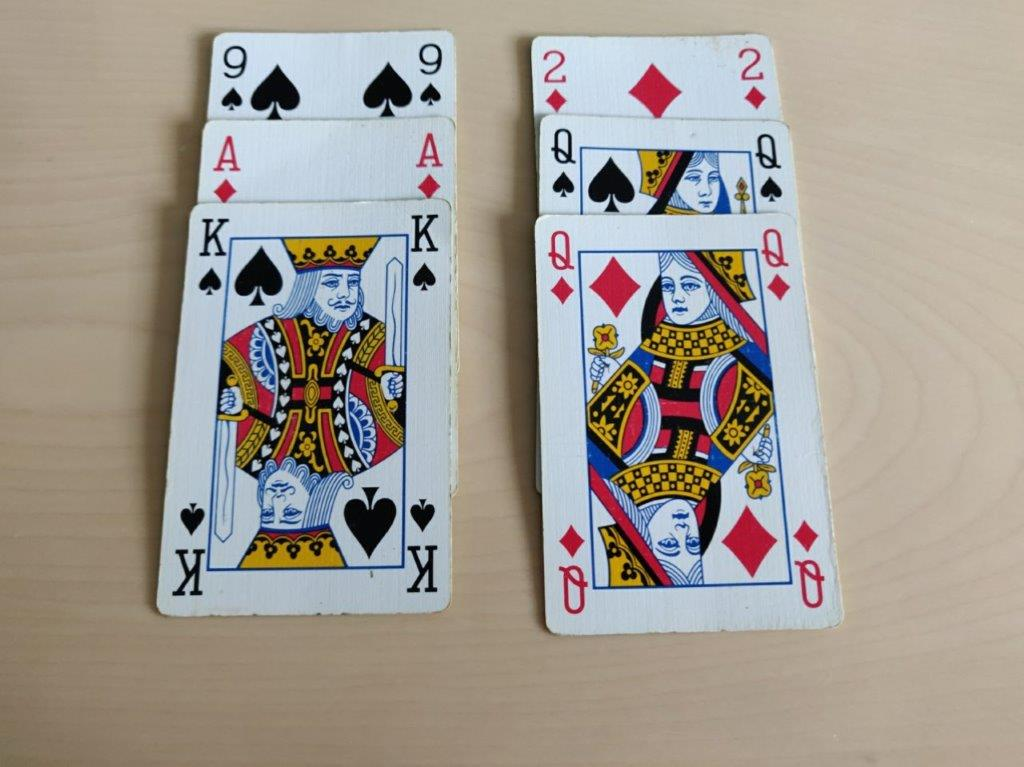2D: (536, 41, 571, 113), (736, 44, 771, 116)
9S: (215, 34, 251, 119), (414, 32, 450, 117)
AD: (208, 128, 249, 204), (409, 125, 450, 201)
KS: (194, 214, 229, 300), (408, 212, 443, 298)
QD: (540, 226, 582, 311), (753, 223, 795, 308)
QS: (548, 123, 581, 206), (754, 128, 787, 211)
